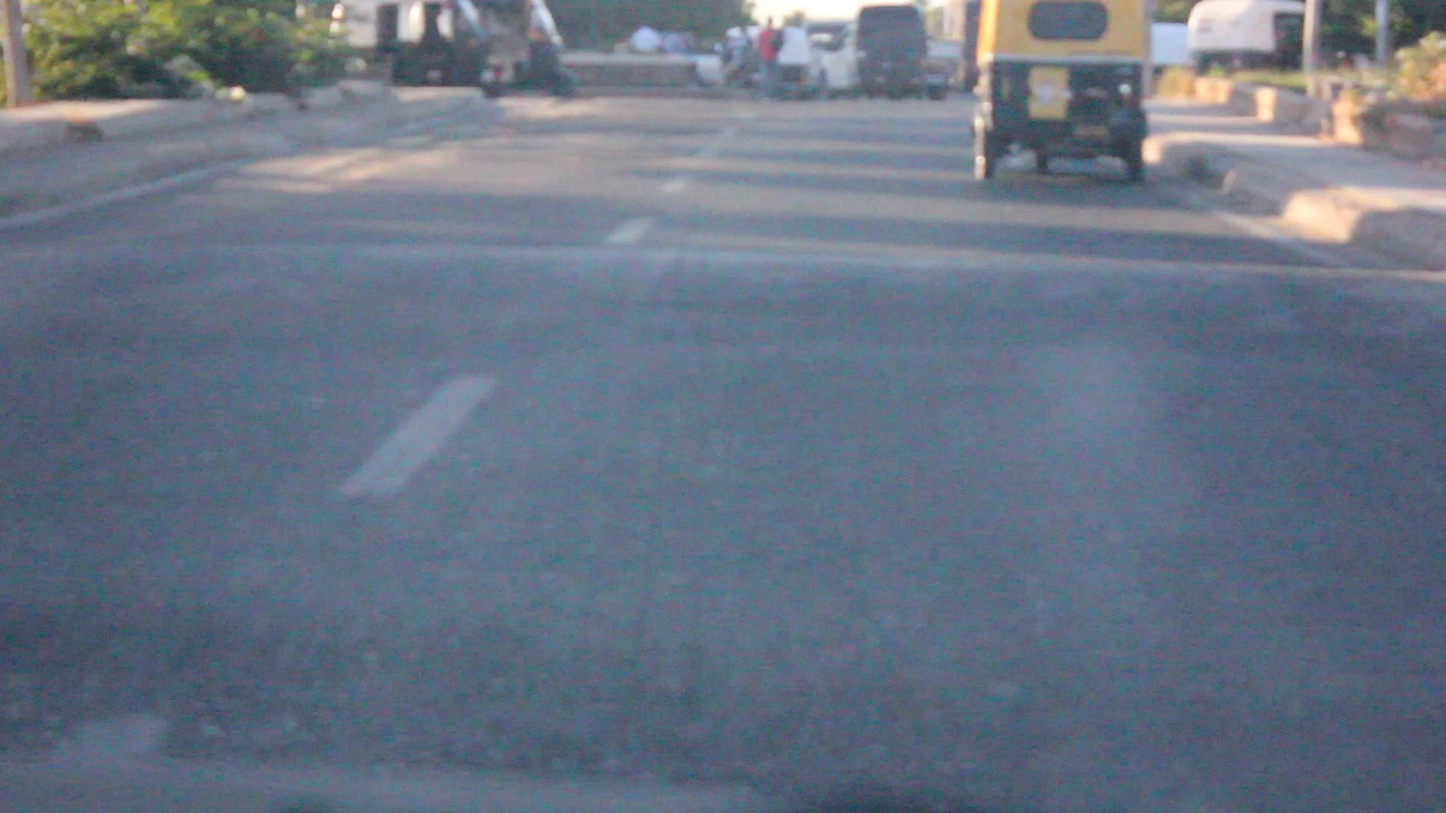Bump: (0, 237, 1444, 361)
